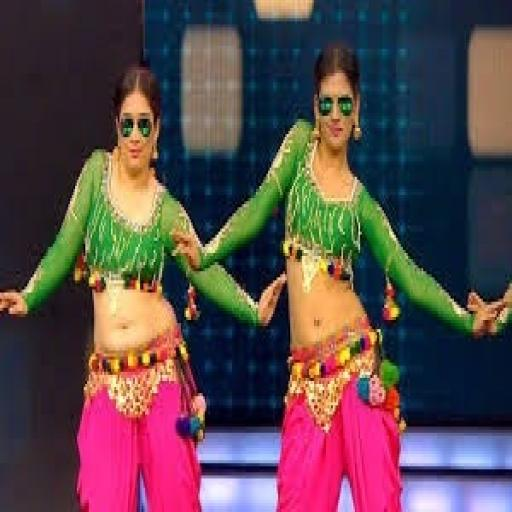dancing: (170, 40, 508, 509), (0, 61, 288, 509)
